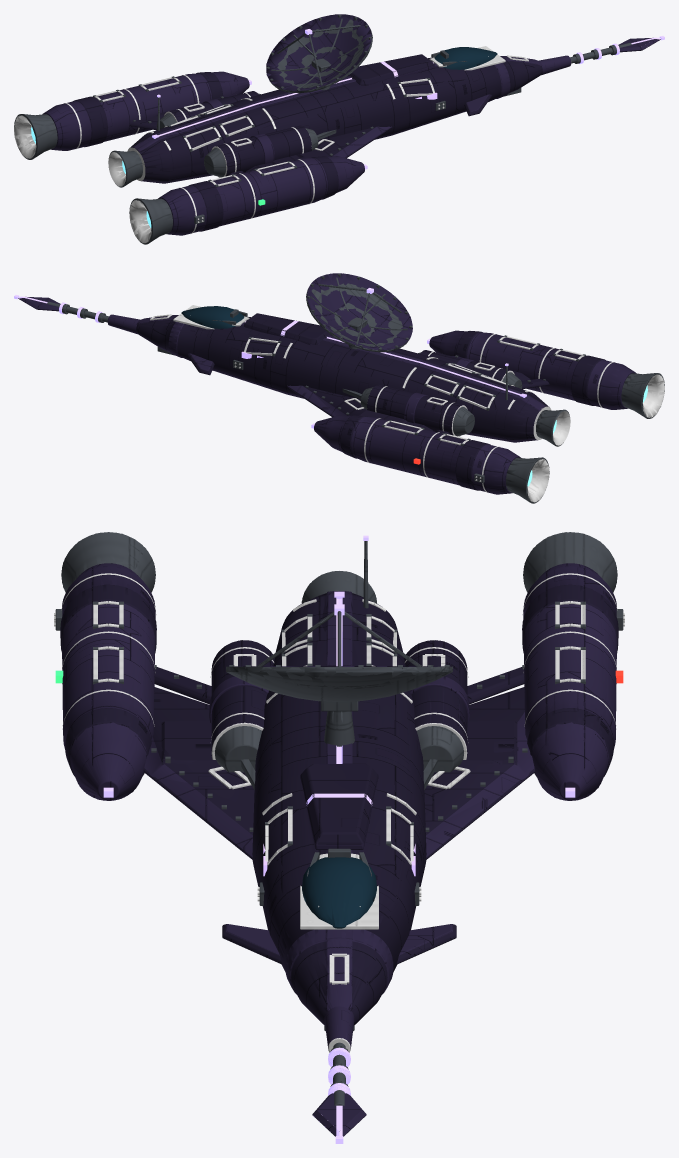
File: ranger_archive_censor.glb
The picture shows the model from 3 angles, top to bottom: view 1: azimuth 30°, elevation 25°; view 2: azimuth 150°, elevation 25°; view 3: azimuth 270°, elevation 25°; orthographic projection. The views are drawn at different scales.
Visible parts, largest first — view 1: LOD0_MOTION_HULL_CORE_Hull, LOD2_MOTION_HULL_CORE_Armor, LOD1_MOTION_HULL_CORE_Armor, LOD2_MOTION_HULL_CORE_Hull, LOD0_MOTION_HULL_CORE_Armor, LOD0_MOTION_HULL_CORE_MechanicalDark, LOD0_MOTION_HULL_CORE_Mechanical, LOD1_MOTION_HULL_CORE_Hull, LOD2_MOTION_HULL_CORE_HOOK_SENSOR_DISH_Armor, LOD2_MOTION_HULL_CORE_MechanicalDark, LOD0_MOTION_HULL_CORE_HOOK_SENSOR_DISH_Mechanical, LOD2_MOTION_HULL_CORE_HOOK_SENSOR_DISH_Mechanical (+9 smaller); view 2: LOD0_MOTION_HULL_CORE_Hull, LOD1_MOTION_HULL_CORE_Armor, LOD2_MOTION_HULL_CORE_Armor, LOD2_MOTION_HULL_CORE_Hull, LOD0_MOTION_HULL_CORE_Armor, LOD0_MOTION_HULL_CORE_MechanicalDark, LOD0_MOTION_HULL_CORE_Mechanical, LOD2_MOTION_HULL_CORE_HOOK_SENSOR_DISH_Armor, LOD1_MOTION_HULL_CORE_Hull, LOD0_MOTION_HULL_CORE_HOOK_SECONDARY_TANK_Hull, LOD2_MOTION_HULL_CORE_MechanicalDark, LOD2_MOTION_HULL_CORE_HOOK_SENSOR_DISH_Mechanical (+11 smaller); view 3: LOD0_MOTION_HULL_CORE_Hull, LOD1_MOTION_HULL_CORE_Armor, LOD0_MOTION_HULL_CORE_Armor, LOD1_MOTION_HULL_CORE_Hull, LOD2_MOTION_HULL_CORE_Armor, LOD2_MOTION_HULL_CORE_Hull, LOD0_MOTION_HULL_CORE_Mechanical, LOD0_MOTION_HULL_CORE_MechanicalDark, LOD0_MOTION_HULL_CORE_HOOK_SENSOR_DISH_Mechanical, LOD0_MOTION_HULL_CORE_HOOK_SECONDARY_TANK_Hull, LOD2_MOTION_HULL_CORE_Mechanical, LOD1_MOTION_HULL_CORE_HOOK_SENSOR_DISH_Mechanical (+7 smaller).
Boxes of the visible parts, box(x1,y1,x2,y2) form: LOD0_MOTION_HULL_CORE_Hull: box(73, 54, 542, 231); LOD2_MOTION_HULL_CORE_Armor: box(44, 57, 570, 235); LOD1_MOTION_HULL_CORE_Armor: box(42, 39, 638, 234); LOD2_MOTION_HULL_CORE_Hull: box(75, 55, 542, 231); LOD0_MOTION_HULL_CORE_Armor: box(43, 38, 660, 235); LOD0_MOTION_HULL_CORE_MechanicalDark: box(14, 46, 528, 243); LOD0_MOTION_HULL_CORE_Mechanical: box(15, 42, 631, 244); LOD1_MOTION_HULL_CORE_Hull: box(74, 61, 542, 231); LOD2_MOTION_HULL_CORE_HOOK_SENSOR_DISH_Armor: box(266, 14, 371, 91); LOD2_MOTION_HULL_CORE_MechanicalDark: box(14, 115, 226, 242); LOD0_MOTION_HULL_CORE_HOOK_SENSOR_DISH_Mechanical: box(266, 14, 372, 93); LOD2_MOTION_HULL_CORE_HOOK_SENSOR_DISH_Mechanical: box(269, 19, 372, 93); LOD0_MOTION_HULL_CORE_Hull: box(136, 313, 605, 490); LOD1_MOTION_HULL_CORE_Armor: box(40, 298, 636, 493); LOD2_MOTION_HULL_CORE_Armor: box(40, 309, 634, 494); LOD2_MOTION_HULL_CORE_Hull: box(136, 316, 604, 490); LOD0_MOTION_HULL_CORE_Armor: box(18, 297, 635, 494); LOD0_MOTION_HULL_CORE_MechanicalDark: box(150, 305, 664, 501); LOD0_MOTION_HULL_CORE_Mechanical: box(47, 301, 663, 503); LOD2_MOTION_HULL_CORE_HOOK_SENSOR_DISH_Armor: box(307, 273, 412, 349); LOD1_MOTION_HULL_CORE_Hull: box(136, 320, 603, 489); LOD0_MOTION_HULL_CORE_HOOK_SECONDARY_TANK_Hull: box(367, 384, 462, 435); LOD2_MOTION_HULL_CORE_MechanicalDark: box(505, 370, 664, 502); LOD2_MOTION_HULL_CORE_HOOK_SENSOR_DISH_Mechanical: box(306, 283, 409, 352); LOD0_MOTION_HULL_CORE_Hull: box(60, 584, 618, 1024); LOD1_MOTION_HULL_CORE_Armor: box(62, 567, 616, 1131); LOD0_MOTION_HULL_CORE_Armor: box(61, 563, 617, 1136); LOD1_MOTION_HULL_CORE_Hull: box(60, 584, 618, 1024); LOD2_MOTION_HULL_CORE_Armor: box(62, 563, 616, 1131); LOD2_MOTION_HULL_CORE_Hull: box(60, 584, 618, 1024); LOD0_MOTION_HULL_CORE_Mechanical: box(55, 532, 623, 1105); LOD0_MOTION_HULL_CORE_MechanicalDark: box(54, 573, 624, 1052); LOD0_MOTION_HULL_CORE_HOOK_SENSOR_DISH_Mechanical: box(226, 611, 452, 746); LOD0_MOTION_HULL_CORE_HOOK_SECONDARY_TANK_Hull: box(404, 640, 467, 754); LOD2_MOTION_HULL_CORE_Mechanical: box(62, 532, 617, 1105); LOD1_MOTION_HULL_CORE_HOOK_SENSOR_DISH_Mechanical: box(227, 611, 447, 711).
Size of what is drawn, in the model's own units: 17.73 by 3.39 by 7.54.
11 materials, 4 textured.
